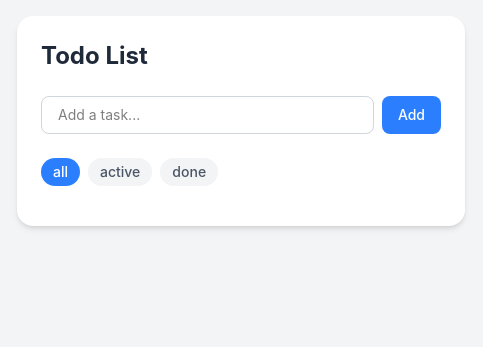
Test: App › filters todos by active
Type "buy milk" into the field with placeholder "Add a task..." at (207, 115), box [41,96,374,134]
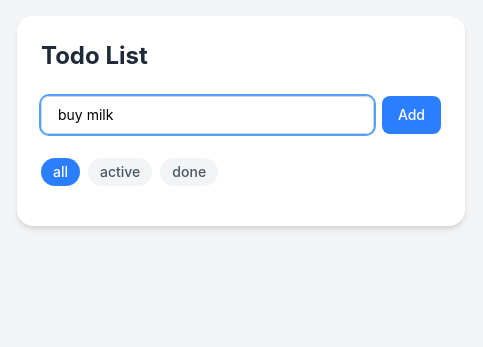
Click the button "Add" at (411, 115), box [382,96,441,134]
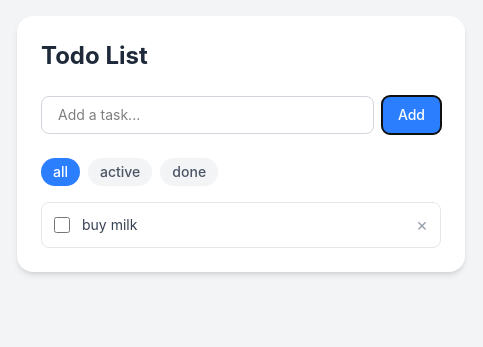
Type "go gym" into the field with placeholder "Add a task..." at (207, 115), box [41,96,374,134]
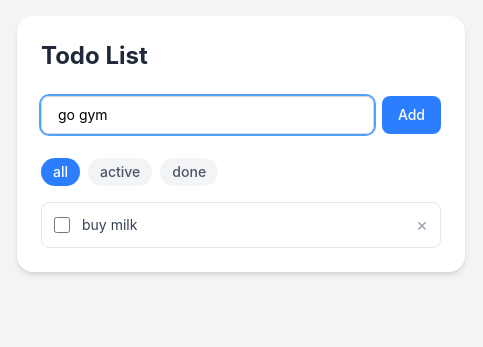
Click the button "Add" at (411, 115), box [382,96,441,134]
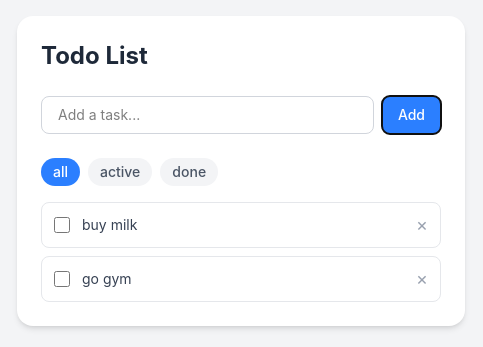
Click the checkbox next to "buy milk" at (62, 225), box [54,217,70,233]
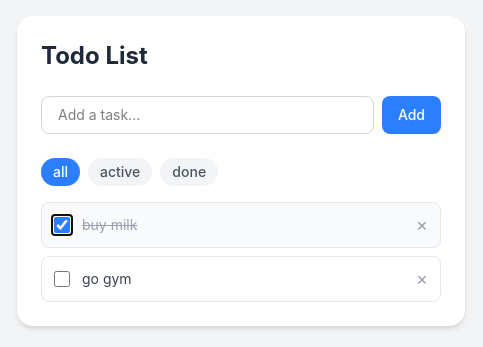
Click the button "active" at (120, 172), box [88,158,152,186]
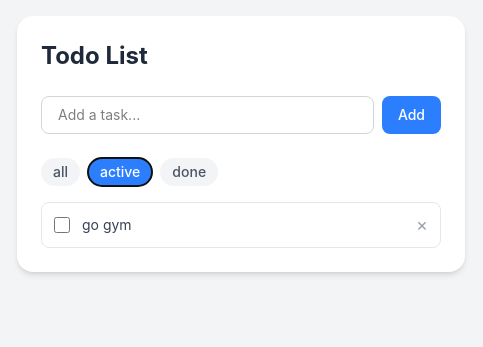
Result: the text "go gym" is shown at [82,216,132,233]
Result: the text "buy milk" is gone
